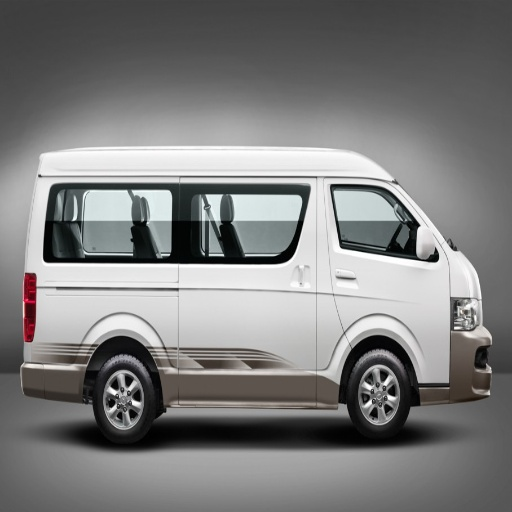back_right_door: (279, 177, 331, 254)
trunk: (27, 265, 182, 397), (385, 301, 476, 386), (315, 301, 371, 382)
